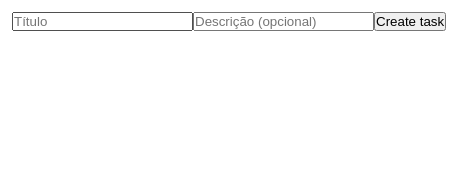
CreateTask › shows a friendly message when the server can't be reached
Type "x" into the field with placeholder "Título". click: (102, 22)
box: [12,12,193,31]
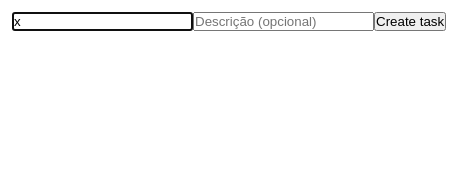
Click the button "Create task". click: (410, 22)
box: [374,12,446,31]
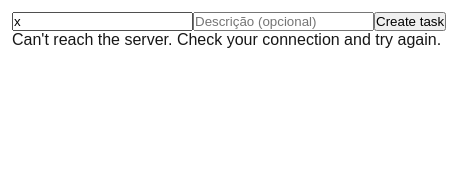
Result: the message reads "Can't reach the server. Check your connection and try again." at [12,31,441,48]
